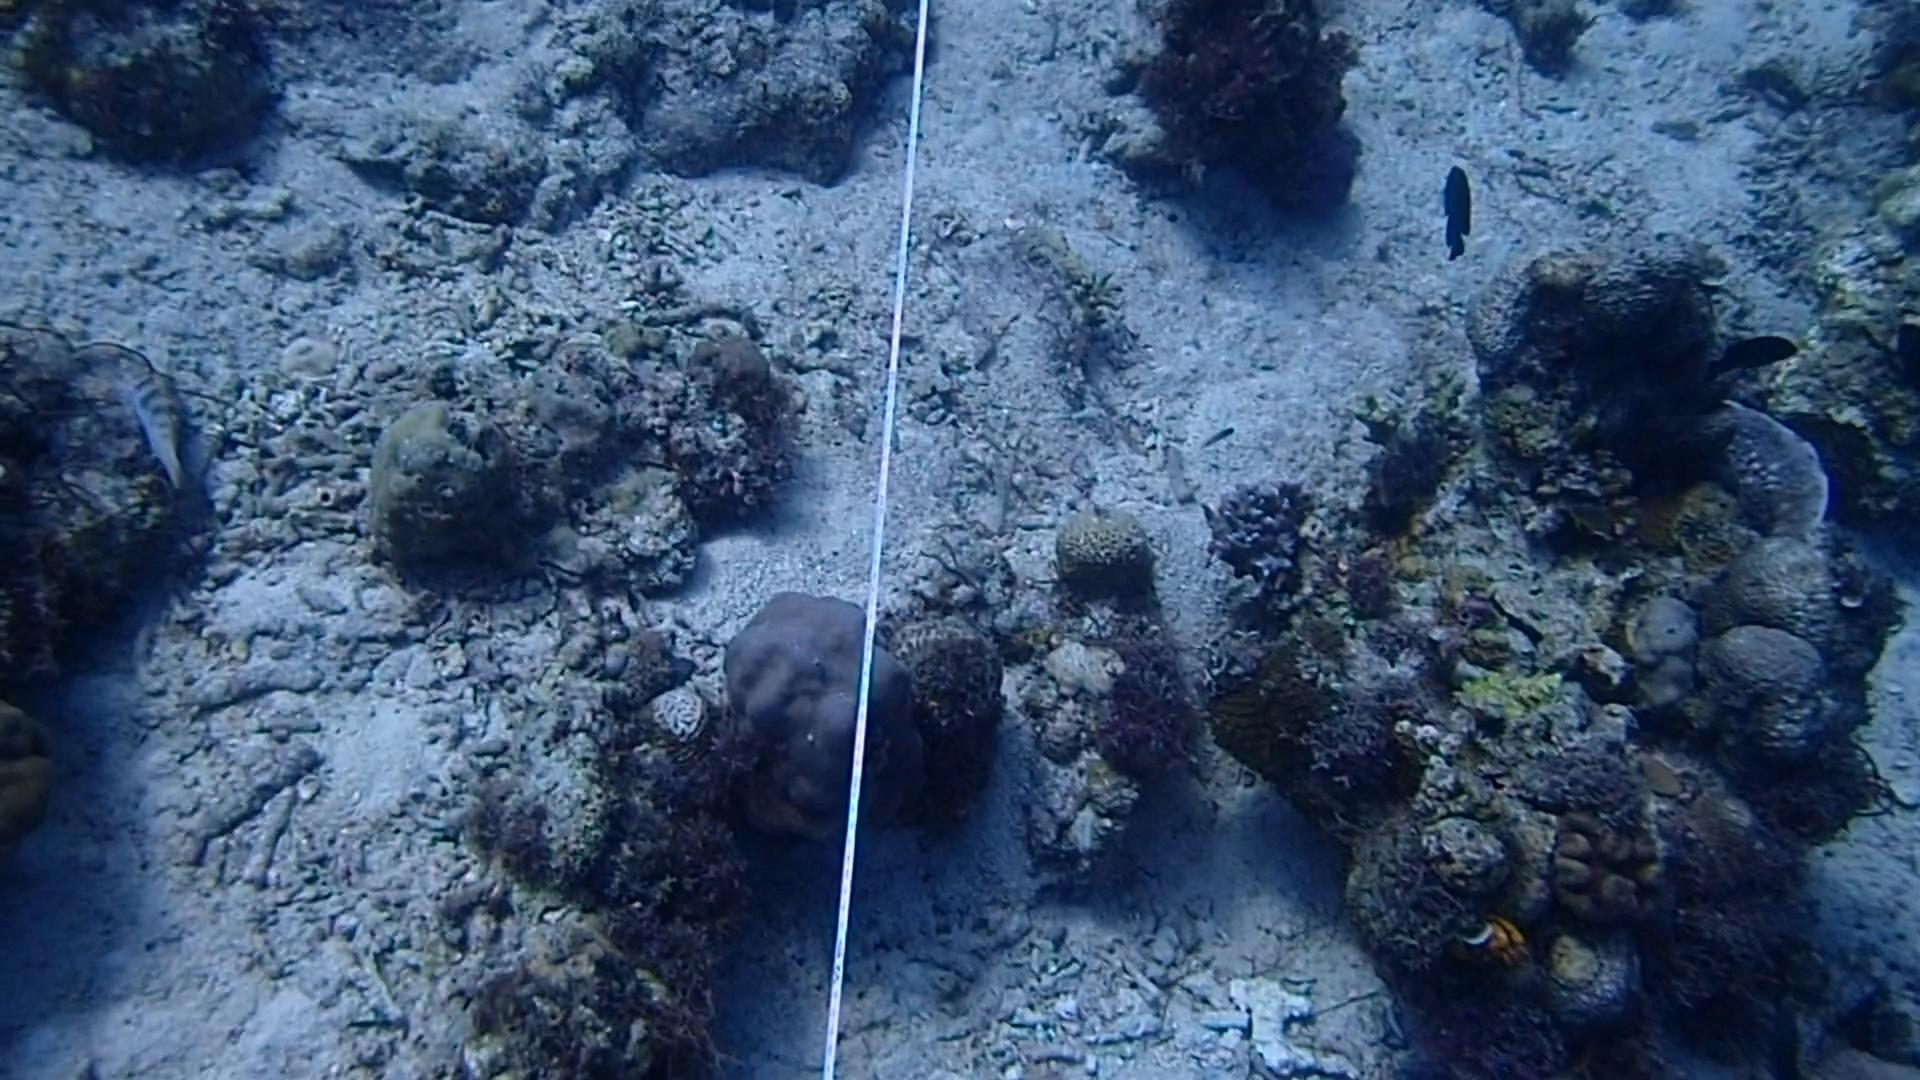Dark Fish: (1677, 315, 1805, 400), (1416, 150, 1489, 276)
Light Fish w Back Stripes: (108, 357, 202, 492)
